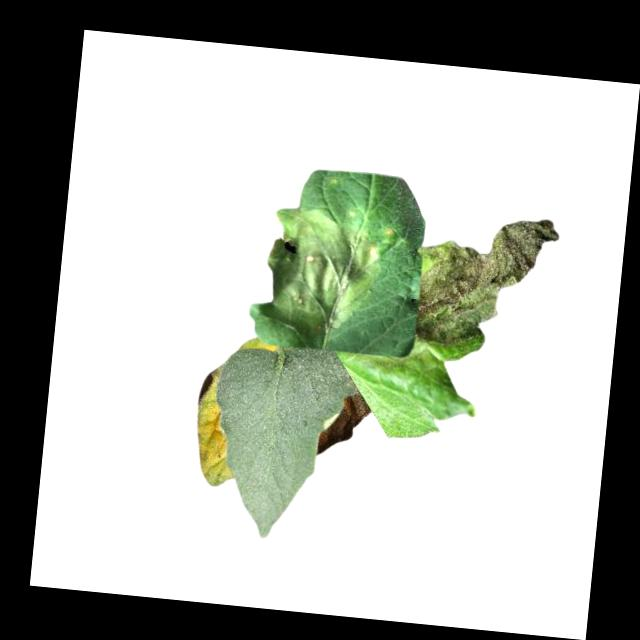Late_blight: (412, 207, 561, 366), (247, 201, 399, 342), (338, 332, 484, 445), (189, 367, 242, 489), (315, 386, 375, 462)
healthy: (204, 340, 360, 547)
